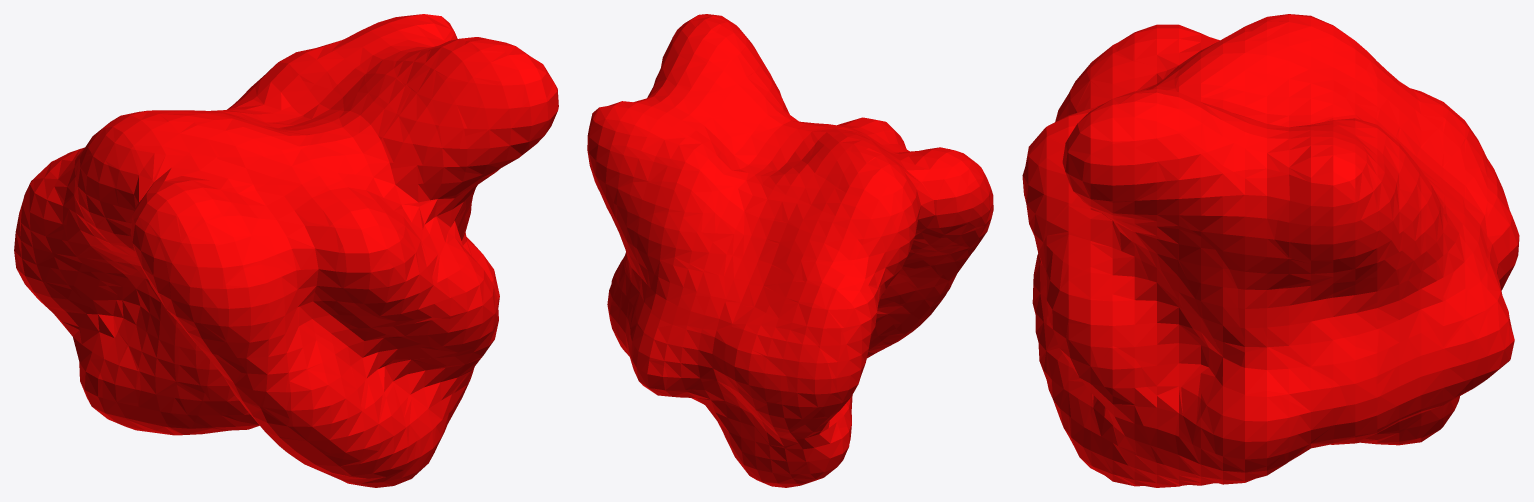
The model's file is mlaD_coarse.dae.
3 renders of one model, left to right at view 1: azimuth 30°, elevation 25°; view 2: azimuth 150°, elevation 25°; view 3: azimuth 270°, elevation 25°, orthographic. The views are drawn at different scales.
Parts seen in each view (by area): view 1: mlaD; view 2: mlaD; view 3: mlaD.
Boxes of the visible parts, x1,y1,x2,y2 form: mlaD: (14, 14, 558, 487); mlaD: (587, 14, 993, 487); mlaD: (1022, 14, 1519, 487).
Bounding box in the file's own units: 42.89 × 43.1 × 43.24.
